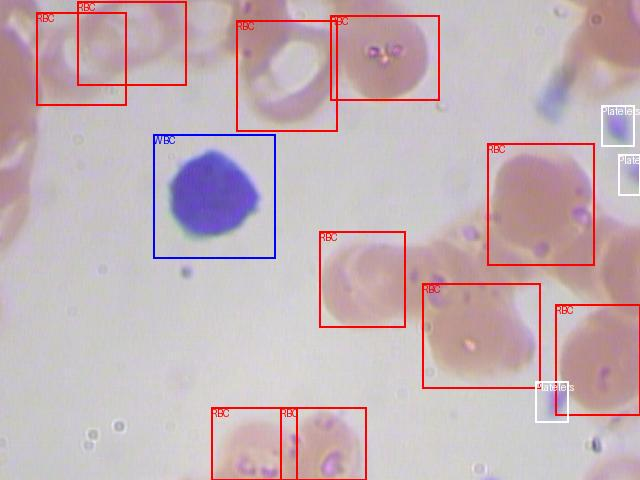Platelets: (601, 105, 634, 146), (535, 381, 568, 422), (618, 154, 640, 195)
RBC: (487, 143, 594, 265), (422, 283, 540, 388), (236, 20, 337, 131), (555, 304, 640, 415), (330, 15, 439, 100), (77, 1, 186, 85), (36, 12, 126, 105), (319, 231, 405, 327), (280, 407, 366, 480), (211, 407, 297, 480)
WBC: (153, 134, 275, 258)
